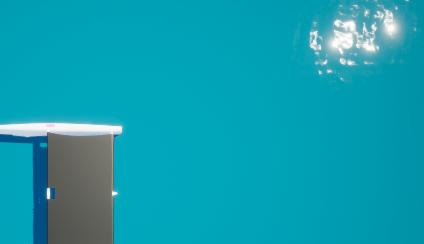boat: (0, 120, 131, 244)
drone: (49, 132, 113, 244)
land_base: (296, 0, 424, 88)
